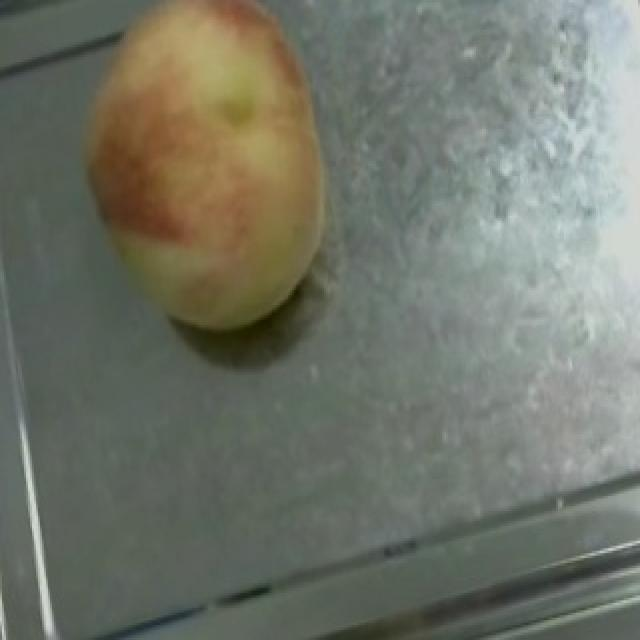Fruit: (44, 0, 366, 365)
